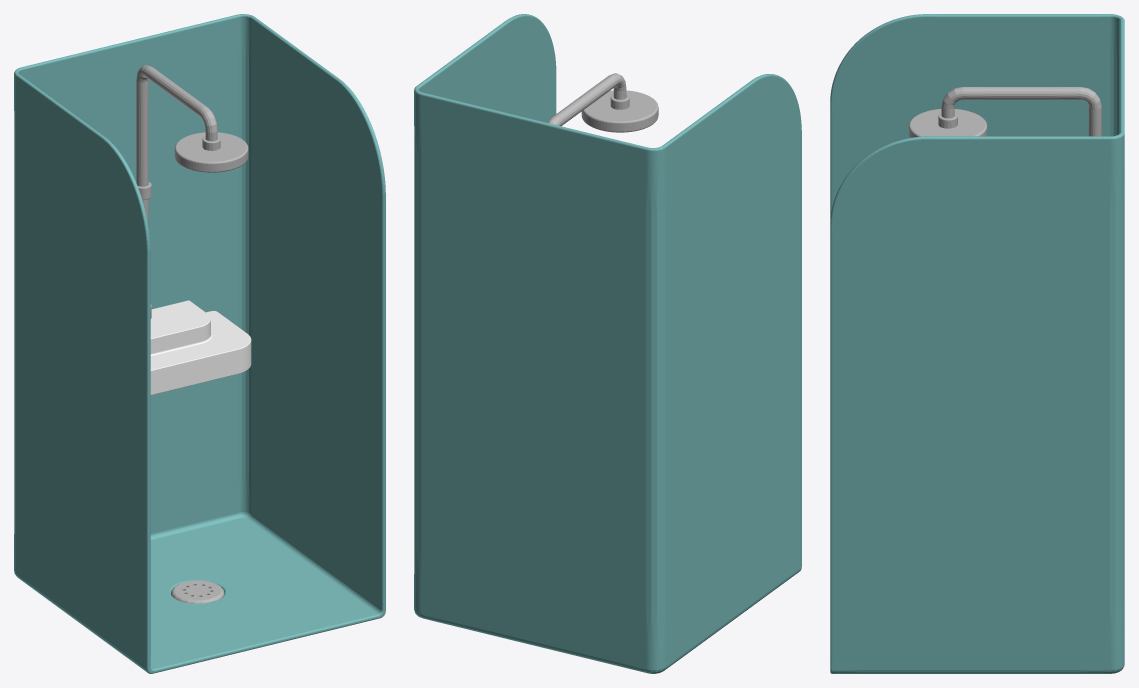
The model's file is showerbooth.fbx.
3 views of the same model, side by side, from view 1: azimuth 30°, elevation 25°; view 2: azimuth 150°, elevation 25°; view 3: azimuth 270°, elevation 25° (orthographic). The views are drawn at different scales.
Parts seen in each view (by area): view 1: 개체_2, 개체_4, 개체_3, 개체_1; view 2: 개체_2, 개체_3; view 3: 개체_2, 개체_3.
Boxes of the visible parts, bbox=[...] form: 개체_2: bbox=[14, 14, 385, 673]; 개체_4: bbox=[150, 300, 251, 395]; 개체_3: bbox=[136, 65, 248, 318]; 개체_1: bbox=[171, 580, 224, 603]; 개체_2: bbox=[414, 14, 801, 673]; 개체_3: bbox=[547, 73, 658, 132]; 개체_2: bbox=[830, 14, 1124, 673]; 개체_3: bbox=[908, 87, 1101, 137].
Size of the model in its own units: 600 by 1210 by 600.
